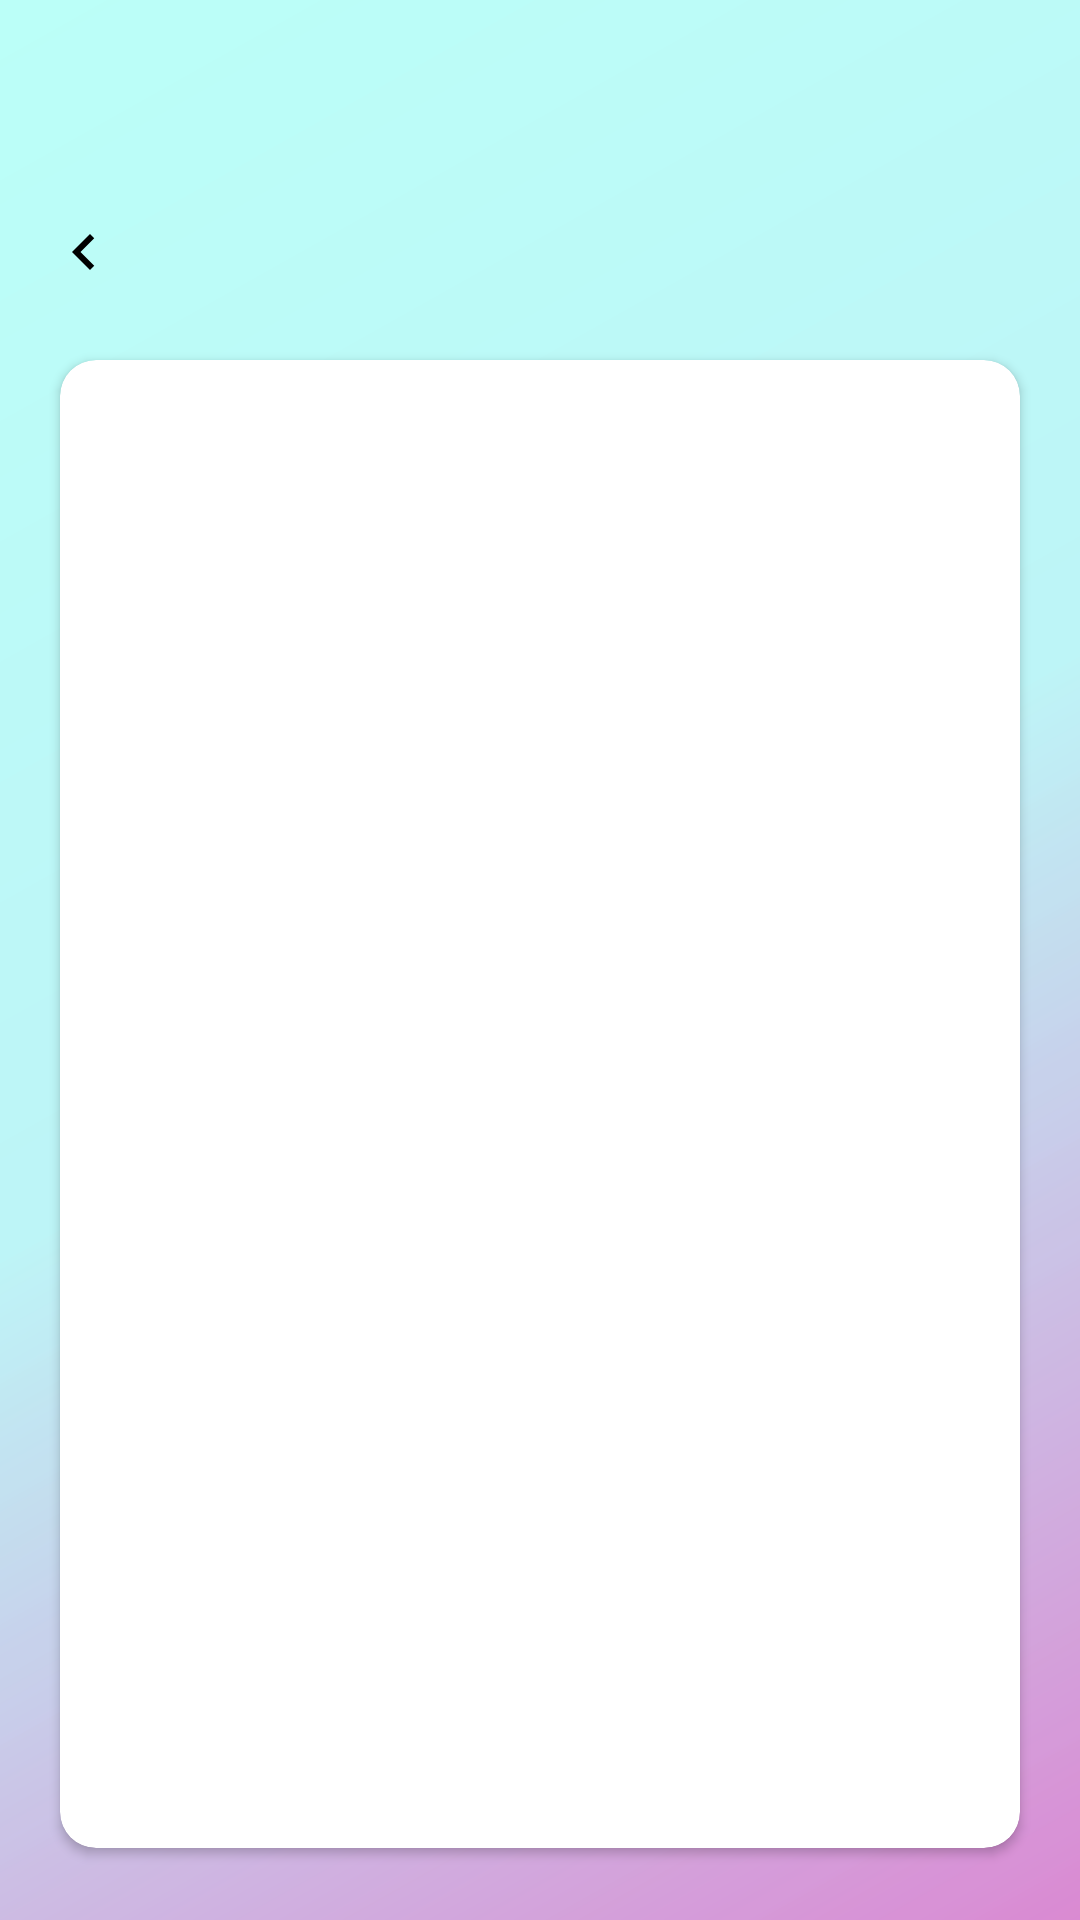

Icon click points for this 1080 x 1920 phone screenshot, format [x,y]:
Back: [83,252]
